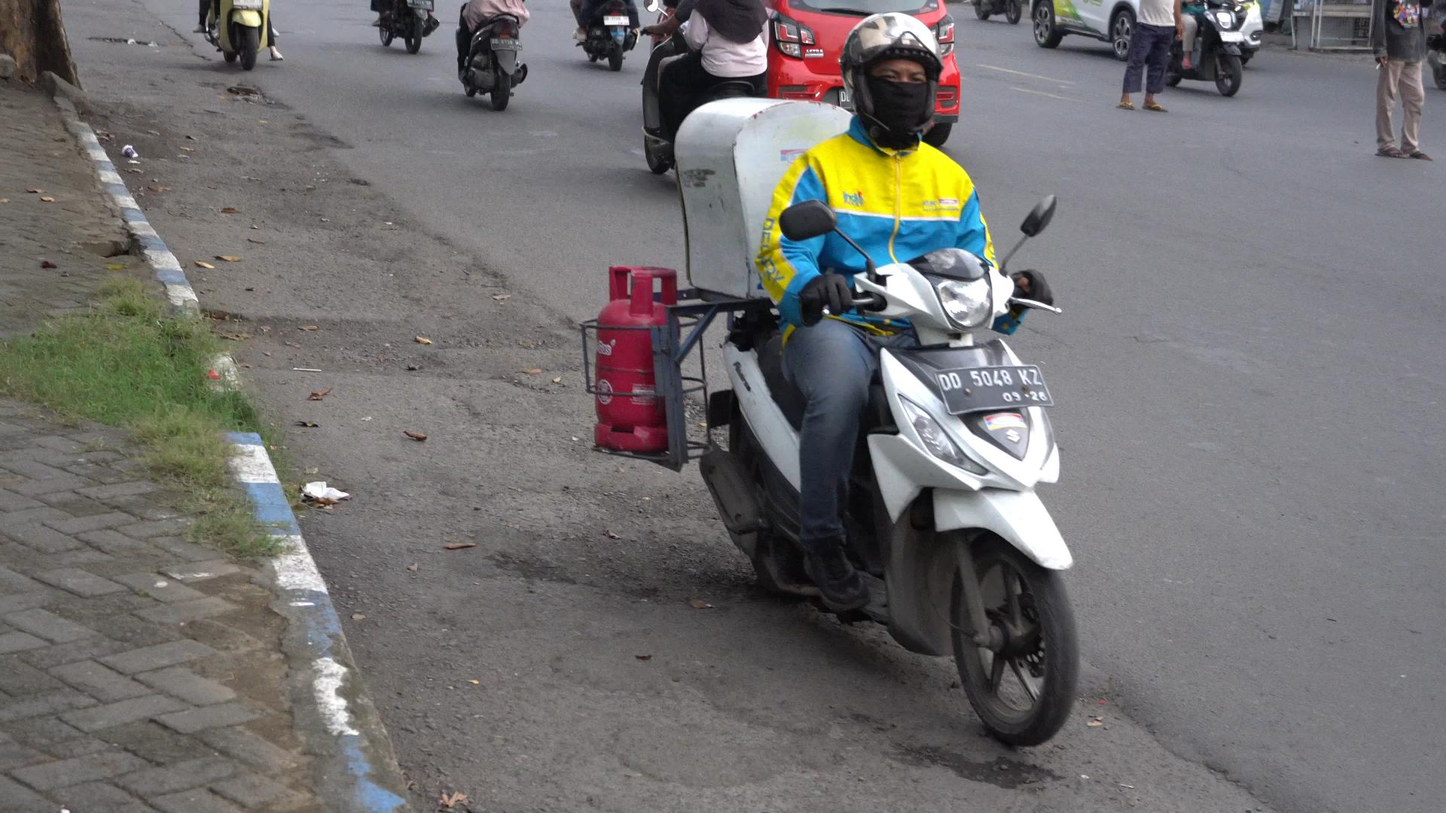number-plate: (939, 368, 1054, 413)
